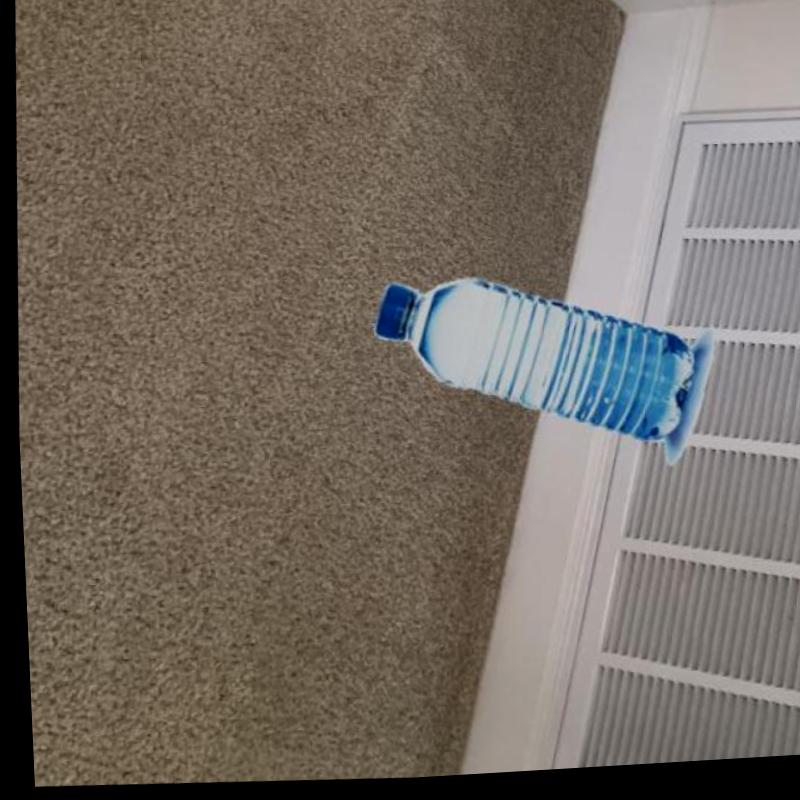botella: (361, 270, 695, 466)
